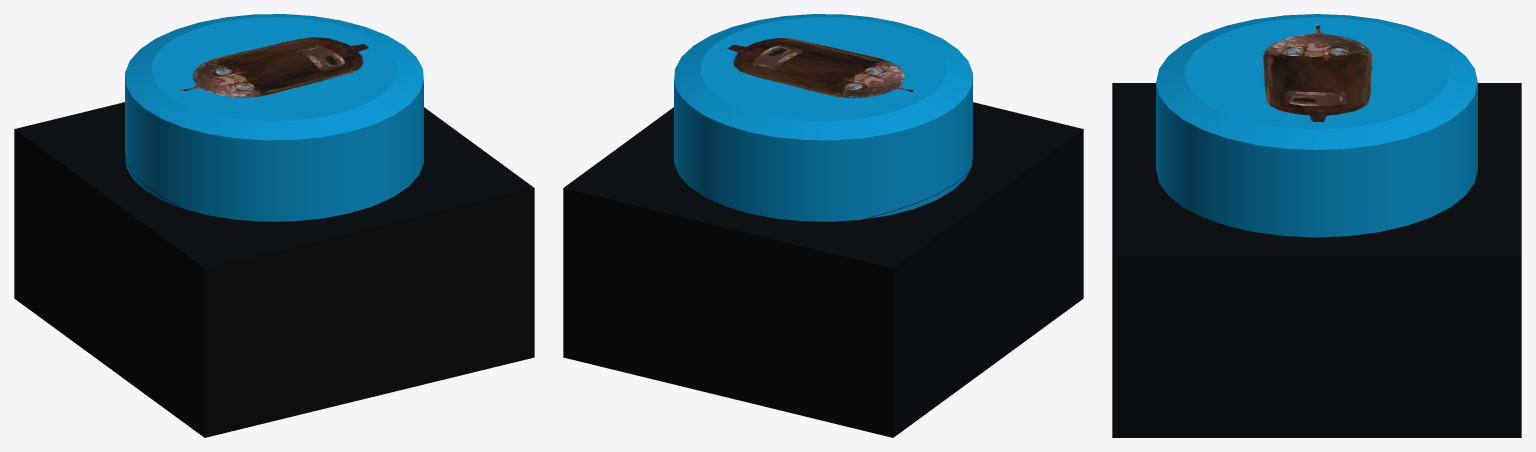
File: botao.fbx
3 views of the same model, side by side, from view 1: azimuth 30°, elevation 25°; view 2: azimuth 150°, elevation 25°; view 3: azimuth 270°, elevation 25° (orthographic). The views are drawn at different scales.
Parts seen in each view (by area): view 1: Cube, Cylinder; view 2: Cube, Cylinder; view 3: Cube, Cylinder.
Part boxes in pixels (x1=…): Cube: x1=14, y1=102, x2=534, y2=437; Cylinder: x1=125, y1=14, x2=423, y2=221; Cube: x1=563, y1=102, x2=1083, y2=437; Cylinder: x1=674, y1=14, x2=972, y2=221; Cube: x1=1112, y1=83, x2=1521, y2=437; Cylinder: x1=1156, y1=14, x2=1477, y2=237.
Bounding box in the file's own units: 200 × 150 × 200.
Materials: 2 (1 with a texture image).
